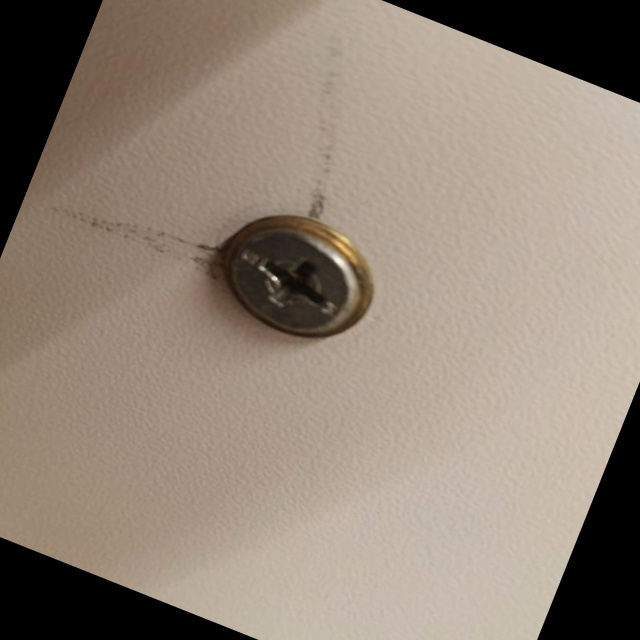phillips: (215, 211, 376, 354)
